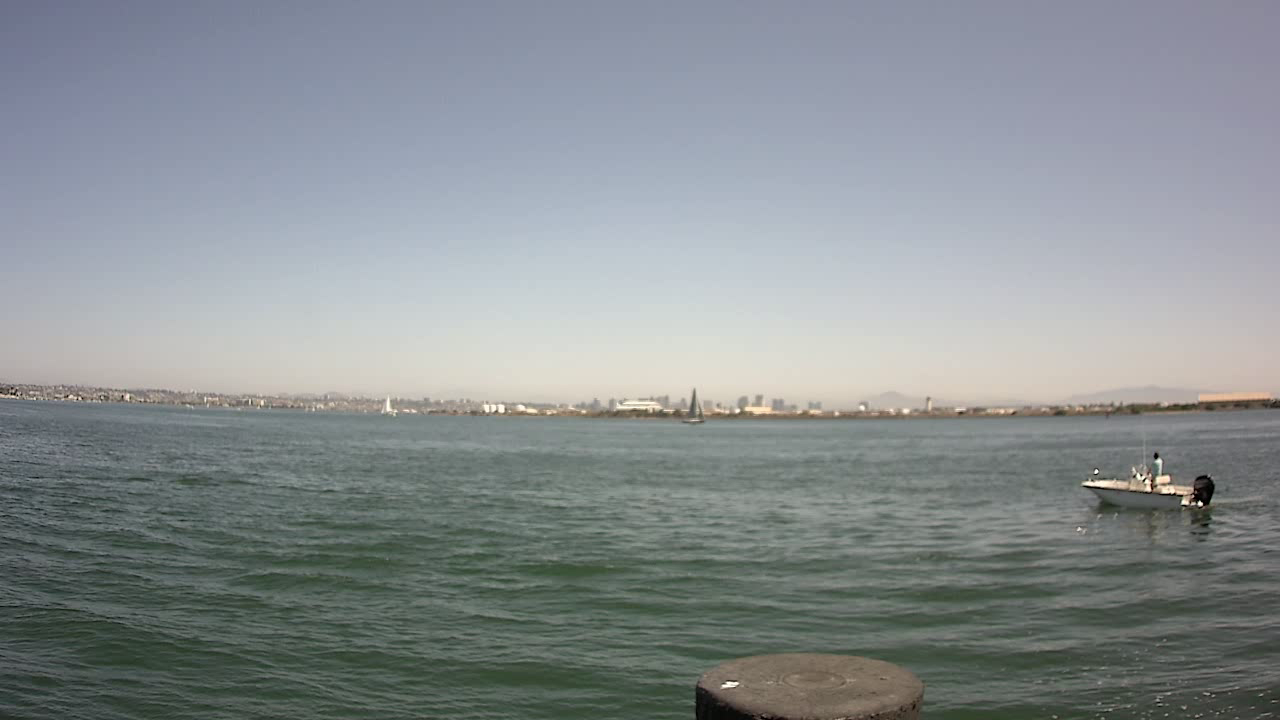target: (1076, 447, 1224, 520)
